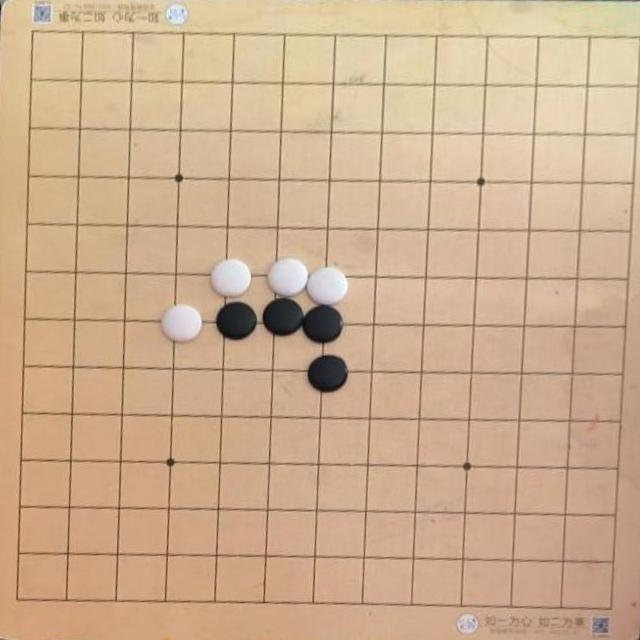blackstone: (302, 304, 343, 344), (262, 298, 304, 336), (308, 354, 349, 392), (216, 302, 257, 340)
whitestone: (306, 266, 348, 306), (267, 258, 308, 298), (210, 259, 252, 297), (161, 304, 202, 342)
